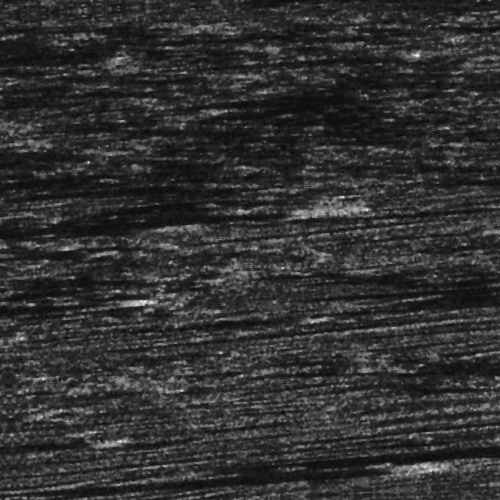object: (244, 204, 389, 221), (439, 291, 500, 312), (90, 286, 163, 297), (378, 60, 461, 69), (0, 314, 49, 323), (480, 373, 500, 392), (68, 239, 131, 244), (268, 318, 321, 323), (496, 221, 500, 224)
shadow: (0, 204, 316, 221), (237, 456, 500, 471), (257, 307, 500, 322), (354, 291, 500, 312), (392, 373, 500, 392), (217, 60, 419, 69), (0, 286, 126, 297), (108, 318, 294, 323), (0, 239, 99, 244), (339, 221, 500, 224)
